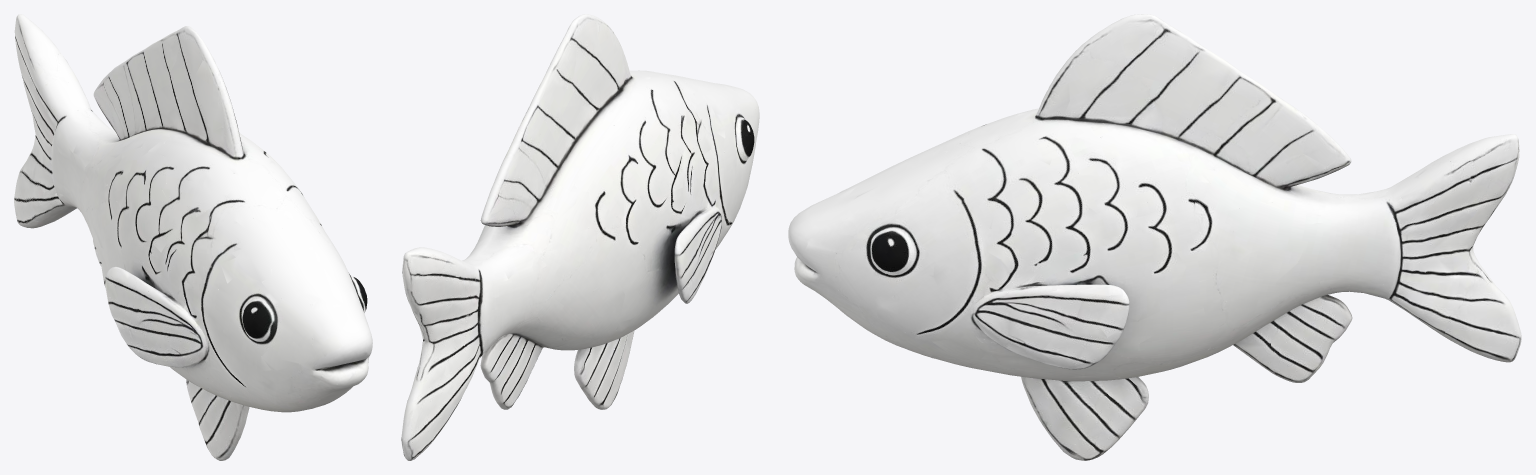
File: goldfish.glb
3 views of the same model, side by side, from view 1: azimuth 30°, elevation 25°; view 2: azimuth 150°, elevation 25°; view 3: azimuth 270°, elevation 25° (orthographic). The views are drawn at different scales.
Visible parts, largest first — view 1: model; view 2: model; view 3: model.
Part boxes in pixels (x1,y1,x2,y2): model: (14, 14, 372, 460); model: (401, 14, 759, 460); model: (788, 14, 1521, 460).
Bounding box in the file's own units: 0.6113 × 1.28 × 1.9.
Materials: 1 (1 with a texture image).
